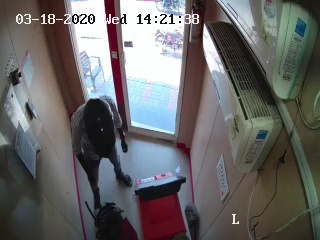helmet: (69, 95, 128, 160)
